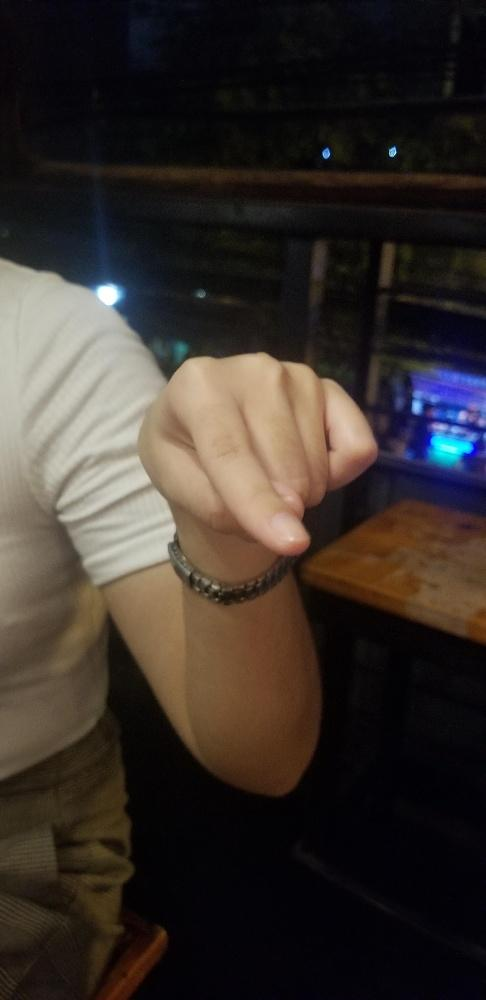z: (159, 352, 379, 555)
